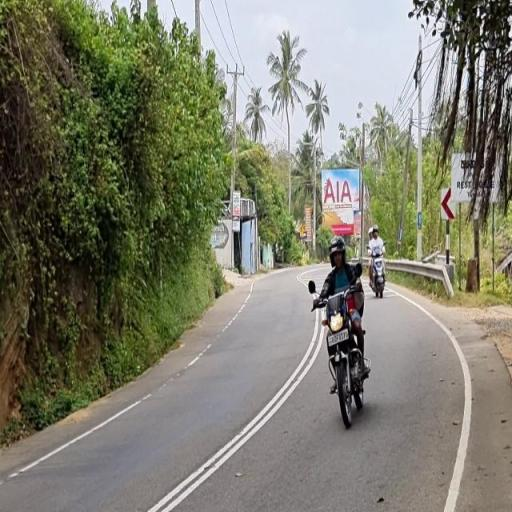double_white_line: (143, 322, 323, 510)
